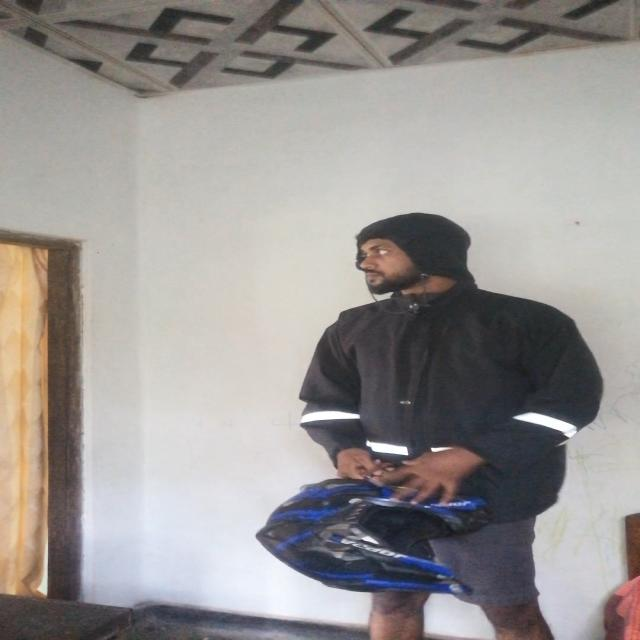Jacket_Wearer: (296, 227, 593, 520)
